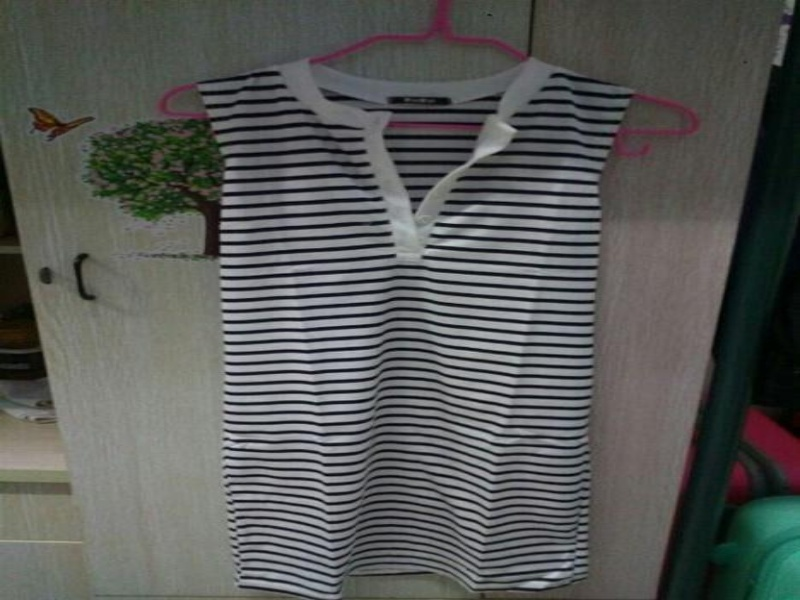vest_dress: (186, 55, 644, 599)
